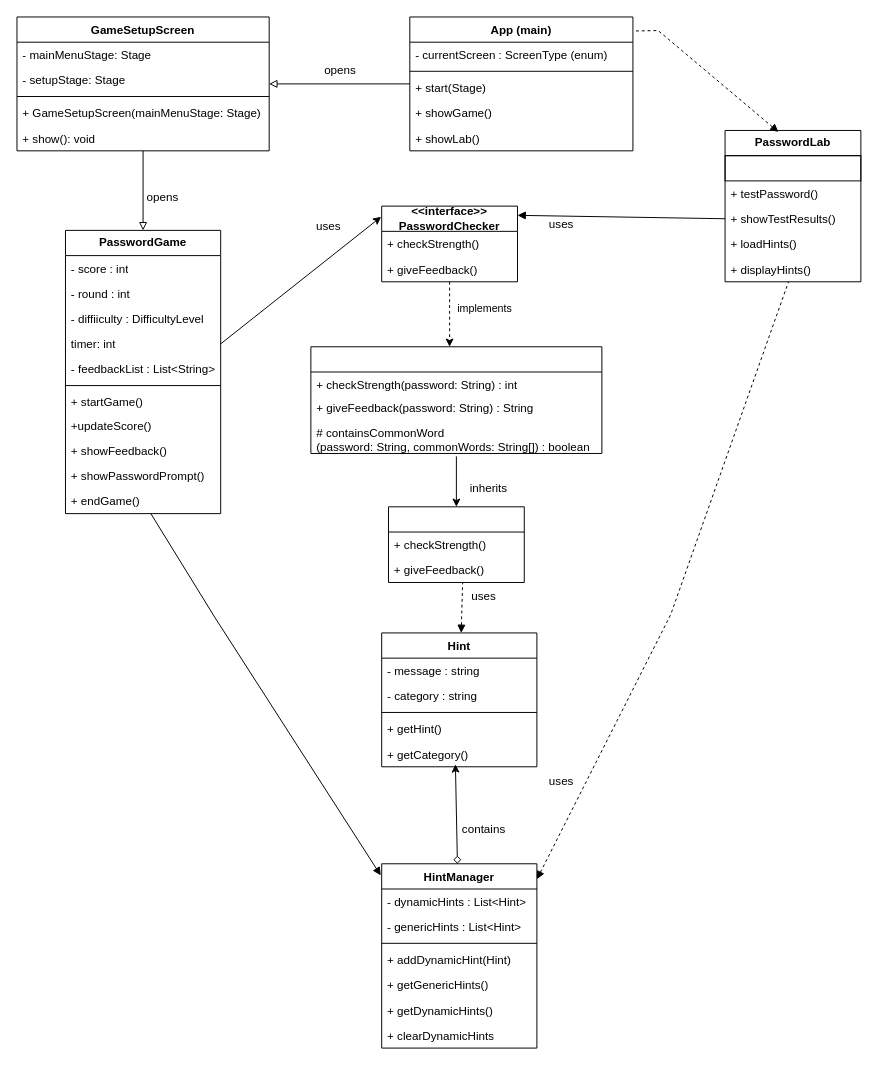
Image size: 878x1068. Some labels were removed from this diagram. Each missing label, with the box of its shape:
- testPasswordResult: (724, 155, 861, 181)
<<abstract>> PasswordComponent: (310, 346, 602, 453)
Password Validator: (388, 506, 524, 582)
